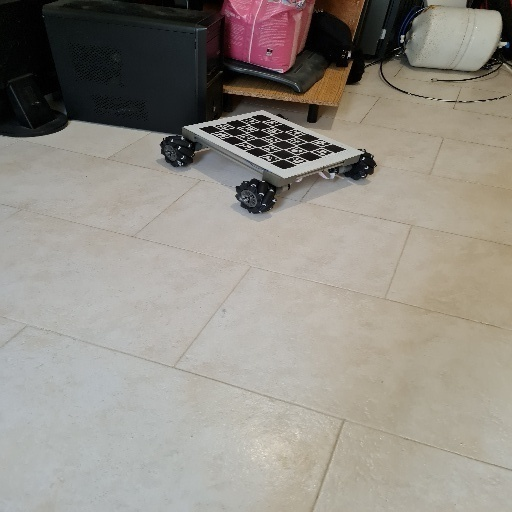Omniwheel: (160, 109, 379, 214)
